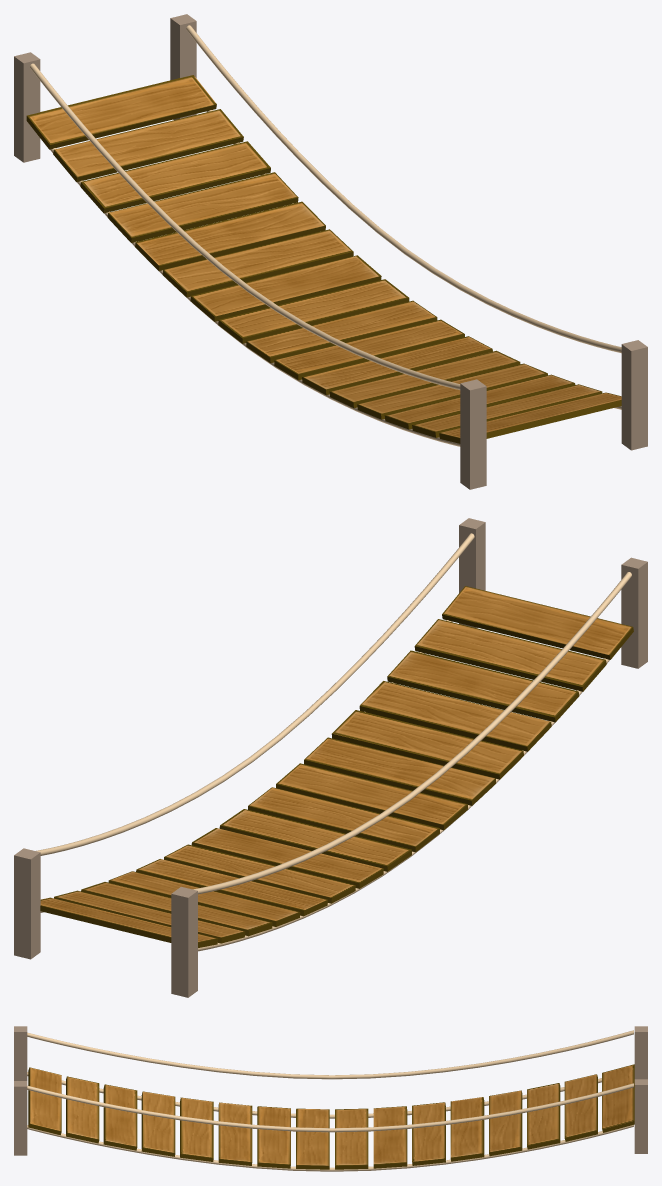
The model's file is windybridge.fbx.
3 views of the same model, one above another, from view 1: azimuth 30°, elevation 25°; view 2: azimuth 150°, elevation 25°; view 3: azimuth 270°, elevation 25° (orthographic). The views are drawn at different scales.
Parts seen in each view (by area): view 1: windybridge, windybridge.015, windybridge.014, windybridge.013, windybridge.012, windybridge.011, windybridge.010, windybridge.009, windybridge.008, windybridge.007, windybridge.006, Rope.Right (+11 smaller); view 2: windybridge.001, windybridge.002, windybridge.003, windybridge.004, windybridge.005, windybridge.006, windybridge.007, windybridge.008, windybridge.009, windybridge.010, windybridge.011, Rope.Right (+11 smaller); view 3: Rope.Left, Rope.Right, windybridge.006, windybridge.010, windybridge.004, windybridge.012, windybridge.003, windybridge.005, windybridge.011, windybridge.007, windybridge.002, windybridge.008 (+12 smaller).
Boxes of the visible parts, x1=… form: windybridge: x1=26, y1=75, x2=216, y2=149; windybridge.015: x1=53, y1=109, x2=243, y2=182; windybridge.014: x1=80, y1=141, x2=270, y2=213; windybridge.013: x1=107, y1=172, x2=298, y2=242; windybridge.012: x1=135, y1=201, x2=325, y2=270; windybridge.011: x1=162, y1=229, x2=353, y2=297; windybridge.010: x1=190, y1=255, x2=381, y2=321; windybridge.009: x1=218, y1=279, x2=409, y2=343; windybridge.008: x1=246, y1=300, x2=437, y2=363; windybridge.007: x1=274, y1=319, x2=464, y2=380; windybridge.006: x1=302, y1=336, x2=492, y2=395; Rope.Right: x1=186, y1=25, x2=621, y2=353; windybridge.001: x1=442, y1=586, x2=633, y2=659; windybridge.002: x1=414, y1=619, x2=606, y2=691; windybridge.003: x1=387, y1=650, x2=579, y2=722; windybridge.004: x1=359, y1=681, x2=551, y2=751; windybridge.005: x1=331, y1=710, x2=523, y2=779; windybridge.006: x1=304, y1=737, x2=496, y2=805; windybridge.007: x1=276, y1=763, x2=468, y2=830; windybridge.008: x1=248, y1=787, x2=439, y2=852; windybridge.009: x1=219, y1=809, x2=411, y2=871; windybridge.010: x1=191, y1=828, x2=383, y2=888; windybridge.011: x1=164, y1=844, x2=355, y2=903; Rope.Right: x1=36, y1=533, x2=474, y2=855; Rope.Left: x1=27, y1=1030, x2=633, y2=1079; Rope.Right: x1=27, y1=1083, x2=633, y2=1132; windybridge.006: x1=218, y1=1102, x2=252, y2=1165; windybridge.010: x1=373, y1=1106, x2=407, y2=1168; windybridge.004: x1=141, y1=1091, x2=175, y2=1156; windybridge.012: x1=450, y1=1097, x2=484, y2=1161; windybridge.003: x1=103, y1=1084, x2=137, y2=1150; windybridge.005: x1=180, y1=1097, x2=213, y2=1161; windybridge.011: x1=412, y1=1102, x2=445, y2=1165; windybridge.007: x1=257, y1=1106, x2=290, y2=1168; windybridge.002: x1=66, y1=1076, x2=99, y2=1143; windybridge.008: x1=296, y1=1108, x2=329, y2=1169.
Bounding box in the file's own units: 68.3 × 303 × 47.15.
